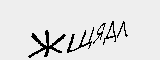Д: (101, 18, 117, 46)
Ж: (29, 29, 66, 60)
Л: (115, 18, 129, 43)
Щ: (69, 25, 93, 53)
Я: (93, 20, 105, 47)
